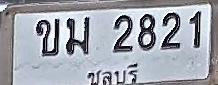1: (189, 11, 201, 48)
2: (113, 14, 133, 52), (161, 12, 180, 49)
8: (138, 13, 156, 50)
A02: (36, 18, 59, 56)
A33: (66, 16, 90, 55)
CBI: (84, 61, 140, 85)
